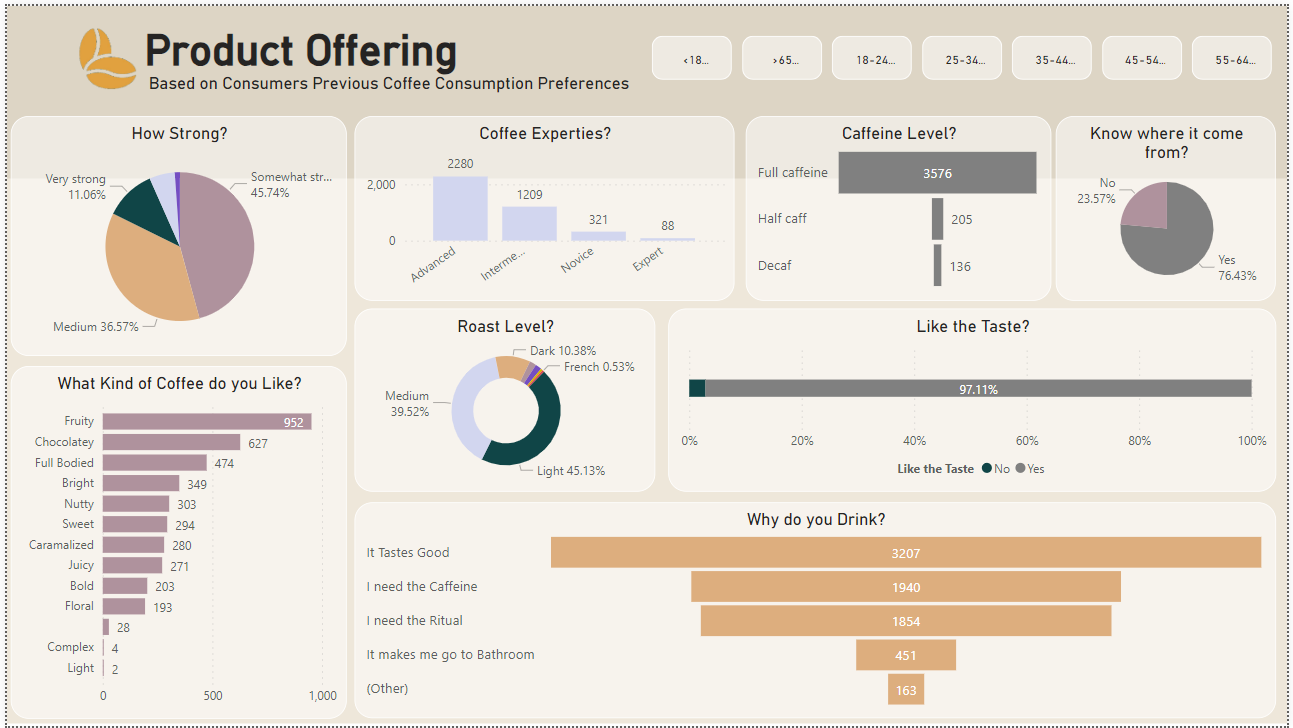

This screenshot's page, from the dashboard's own definition file:
{"tool":"powerbi","page":{"name":"Product Offering (Cont.)","canvas":[1280,720],"ordinal":3},"visuals":[{"type":"textbox","box":[132.9,13.3,514.9,79.7],"z":0},{"type":"image","box":[59.1,17.7,83.7,70.9],"z":1000},{"type":"donutChart","title":"Roast Level?","fields":{"Category":["Processed.Roast Level"],"Y":["CountNonNull(Processed.Roast Level)"]},"box":[347.6,302.6,301.1,183.1],"z":2000},{"type":"barChart","title":"What Kind of Coffee do you Like?","fields":{"Category":["Processed.Favorite Coffee (Before Tasting)"],"Y":["CountNonNull(Processed.Favorite Coffee (Before Tasting))"]},"box":[3.8,360,336.2,352.5],"z":3000},{"type":"columnChart","title":"Coffee Experties?","fields":{"Category":["Processed.Coffee Expertise"],"Y":["CountNonNull(Processed.Coffee Expertise)"]},"box":[347.6,110.2,380.2,184.7],"z":4000},{"type":"pieChart","title":"Know where it come from?","fields":{"Y":["CountNonNull(Processed.Know Where It Comes From)"],"Category":["Processed.Know Where It Comes From"]},"box":[1049.1,110.2,220.4,184.7],"z":5000},{"type":"funnel","title":"Caffeine Level?","fields":{"Category":["Processed.Caffeine Level"],"Y":["CountNonNull(Processed.Caffeine Level)"]},"box":[738.7,110.2,305.7,184.7],"z":6000},{"type":"pieChart","title":"How Strong?","fields":{"Category":["Processed.How Strong"],"Y":["CountNonNull(Processed.How Strong)"]},"box":[3.8,110,336.2,240],"z":7000},{"type":"advancedSlicerVisual","title":"Coffee Consumption by Work Location","fields":{"Values":["Processed.Age"]},"box":[640,25.6,630.2,54.2],"z":8000},{"type":"hundredPercentStackedBarChart","title":"Like the Taste?","fields":{"Y":["CountNonNull(Processed.Like the Taste)"],"Series":["Processed.Like the Taste"]},"box":[661.1,302.6,608.3,183.1],"z":9000},{"type":"funnel","title":"Why do you Drink?","fields":{"Y":["Sum(Processed.It Tastes Good)","Sum(Processed.I need the Caffeine)","Sum(Processed.I need the Ritual)","Sum(Processed.It makes me go to Bathroom)","Sum(Processed.Why Drink (Other))"]},"box":[347.6,496.6,921.8,215.7],"z":10000}]}

Visuals, with their boxes in screenshot pixels (x1, y1, x2, y2), scaled from the page's 1280x720 canvas onto the 1293x728 screenshot:
textbox: bbox=[134, 13, 654, 94]
image: bbox=[60, 18, 144, 90]
"Roast Level?" donutChart: bbox=[351, 306, 655, 491]
"What Kind of Coffee do you Like?" barChart: bbox=[4, 364, 343, 720]
"Coffee Experties?" columnChart: bbox=[351, 111, 735, 298]
"Know where it come from?" pieChart: bbox=[1060, 111, 1282, 298]
"Caffeine Level?" funnel: bbox=[746, 111, 1055, 298]
"How Strong?" pieChart: bbox=[4, 111, 343, 354]
"Coffee Consumption by Work Location" advancedSlicerVisual: bbox=[646, 26, 1283, 81]
"Like the Taste?" hundredPercentStackedBarChart: bbox=[668, 306, 1282, 491]
"Why do you Drink?" funnel: bbox=[351, 502, 1282, 720]
